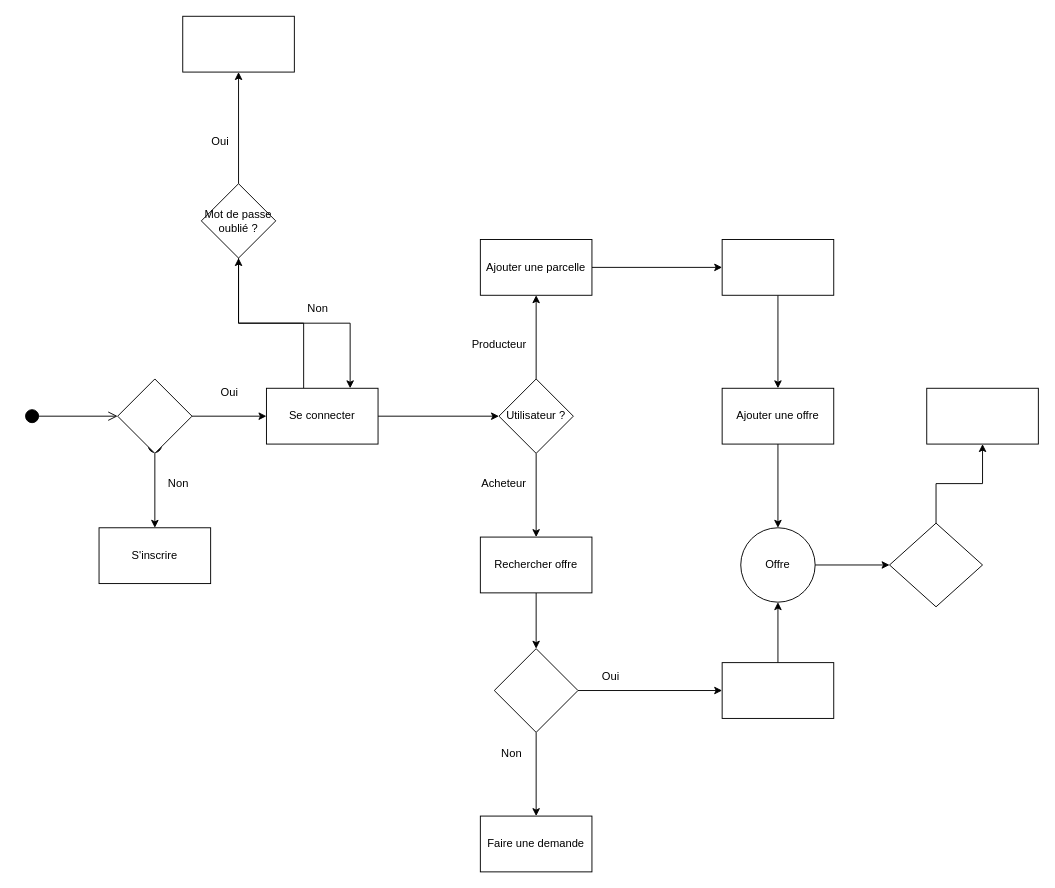
This 1055x888 diagram has some shape labels left out. Here are the shapes that lost their labels. From the top down, the box of each, then its label:
(721, 239, 834, 295): Ajouter un type de culture
(117, 378, 192, 453): Inscrit ?
(889, 522, 983, 607): offre d'achat validée ?
(493, 648, 578, 732): Disponible ?
(721, 662, 834, 718): Faire une offre d'achat
